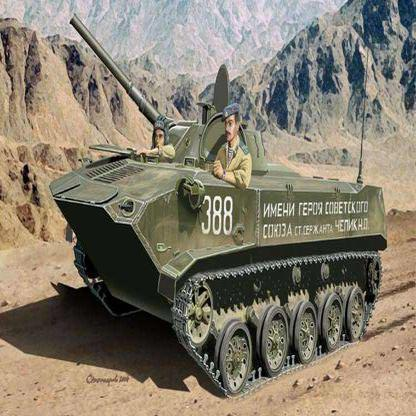Tank: (46, 63, 387, 399)
